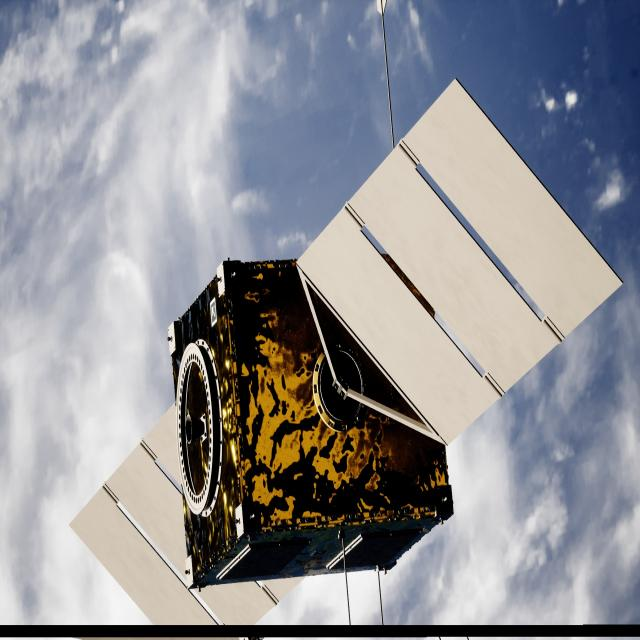medium_debris: (70, 79, 621, 626)
